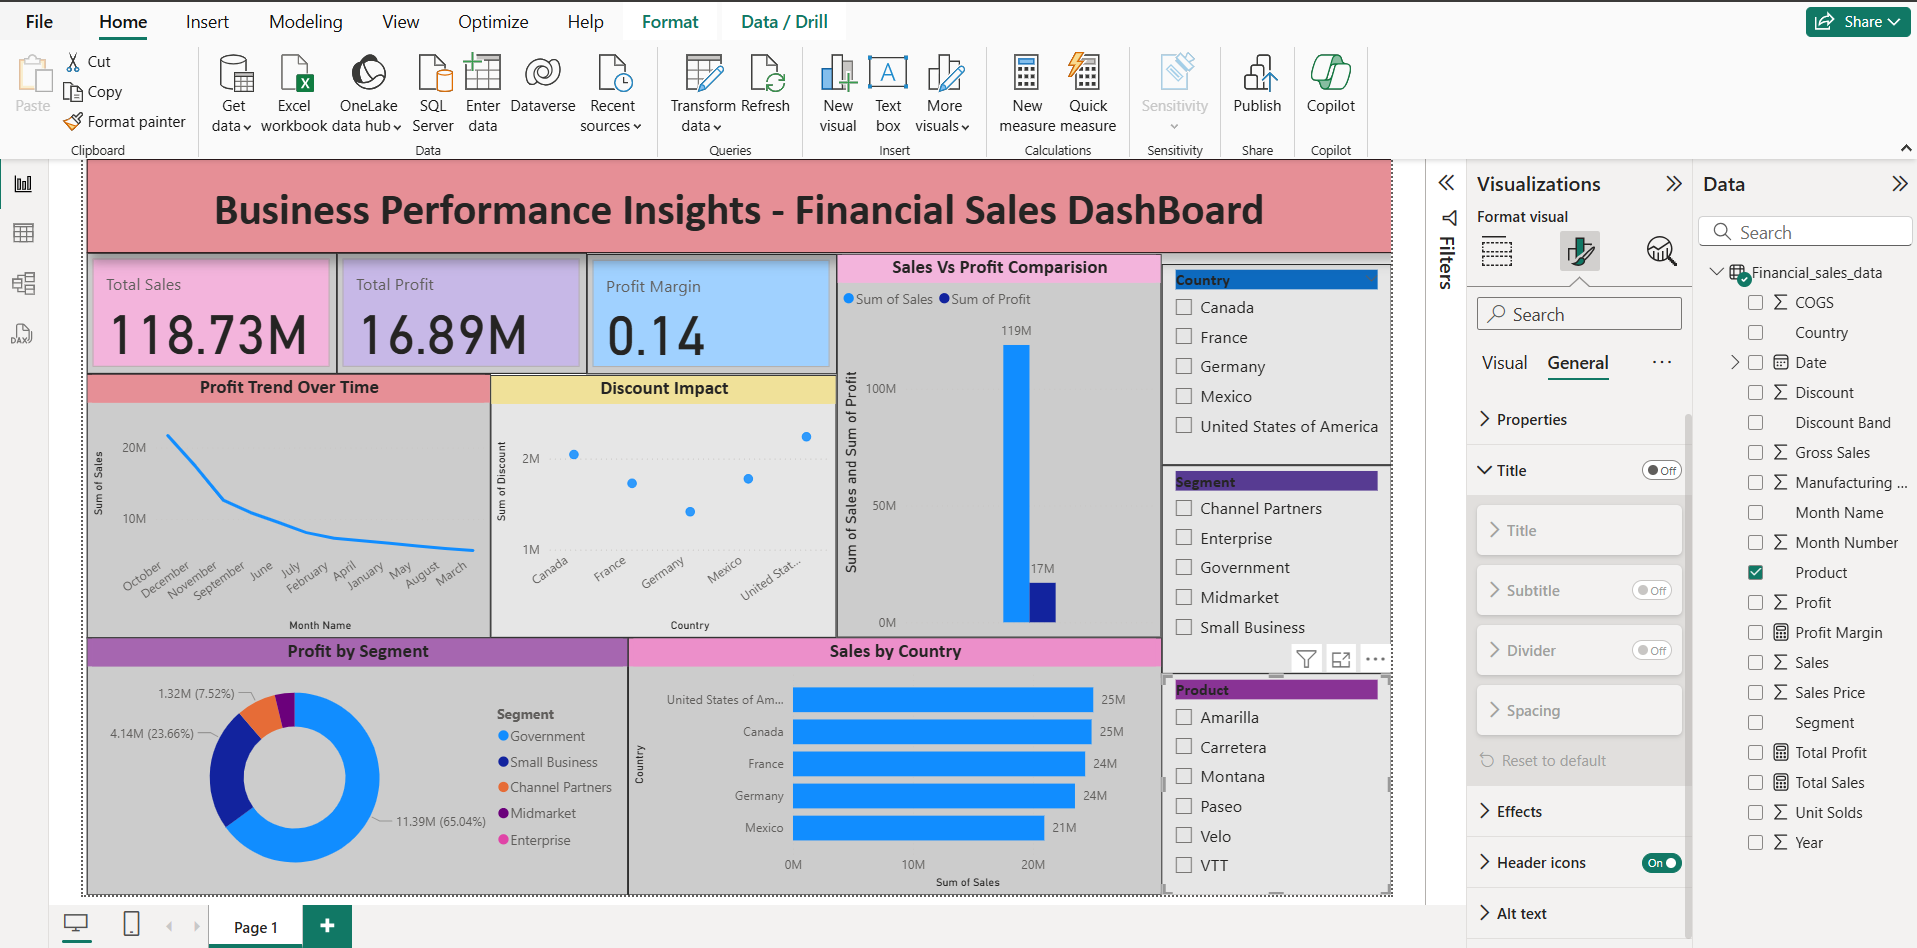

The page's visual inventory and layout, read from the dashboard file:
{"tool":"powerbi","page":{"name":"Page 1","canvas":[1280,720],"ordinal":0},"visuals":[{"type":"lineChart","title":"Profit Trend Over Time","fields":{"Category":["Financial_sales_data.Month Name "],"Y":["Sum(Financial_sales_data.Sales)"]},"box":[3.7,210.3,395,258],"z":0},{"type":"barChart","title":"Sales by Country","fields":{"Y":["Sum(Financial_sales_data.Sales)"],"Category":["Financial_sales_data.Country"]},"box":[533.2,468.3,522.1,251.9],"z":1},{"type":"donutChart","title":"Profit by Segment","fields":{"Y":["Sum(Financial_sales_data.Profit)"],"Category":["Financial_sales_data.Segment"]},"box":[3.7,468.3,529.5,251.9],"z":2},{"type":"scatterChart","title":"Discount Impact","fields":{"Y":["Sum(Financial_sales_data.Discount)"],"X":["Financial_sales_data.Country"]},"box":[398.6,211.6,338.7,256.8],"z":3},{"type":"slicer","fields":{"Values":["Financial_sales_data.Segment"]},"box":[1055.3,299.6,225,204.2],"z":4},{"type":"slicer","fields":{"Values":["Financial_sales_data.Product "]},"box":[1055.3,503.8,225,216.4],"z":5},{"type":"slicer","fields":{"Values":["Financial_sales_data.Country"]},"box":[1055.3,102.7,225,196.9],"z":6},{"type":"cardVisual","fields":{"Data":["Financial_sales_data.Total Sales"]},"box":[3.7,91.7,244.6,118.6],"z":7},{"type":"cardVisual","fields":{"Data":["Financial_sales_data.Total Profit"]},"box":[248.2,91.7,244.6,118.6],"z":8},{"type":"cardVisual","fields":{"Data":["Financial_sales_data.Profit Margin"]},"box":[492.8,92.9,244.6,117.4],"z":9},{"type":"textbox","box":[3.7,0,1276.6,91.7],"z":10},{"type":"clusteredColumnChart","title":"Sales Vs Profit Comparision","fields":{"Y":["Sum(Financial_sales_data.Sales)","Sum(Financial_sales_data.Profit)"]},"box":[737.4,92.9,317.9,375.4],"z":11}]}

Visuals, with their boxes on the page's 1280x720 design canvas (x1, y1, x2, y2). These are canvas units, not pixel positions in the 1917x948 screenshot, which may show the page scaled, cropped or inside an application window:
"Profit Trend Over Time" lineChart: locate(4, 210, 399, 468)
"Sales by Country" barChart: locate(533, 468, 1055, 720)
"Profit by Segment" donutChart: locate(4, 468, 533, 720)
"Discount Impact" scatterChart: locate(399, 212, 737, 468)
slicer - Financial_sales_data.Segment: locate(1055, 300, 1280, 504)
slicer - Financial_sales_data.Product : locate(1055, 504, 1280, 720)
slicer - Financial_sales_data.Country: locate(1055, 103, 1280, 300)
cardVisual - Financial_sales_data.Total Sales: locate(4, 92, 248, 210)
cardVisual - Financial_sales_data.Total Profit: locate(248, 92, 493, 210)
cardVisual - Financial_sales_data.Profit Margin: locate(493, 93, 737, 210)
textbox: locate(4, 0, 1280, 92)
"Sales Vs Profit Comparision" clusteredColumnChart: locate(737, 93, 1055, 468)
